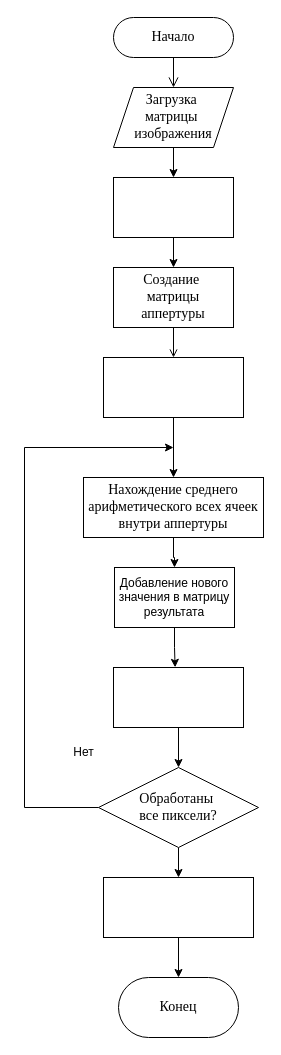
Image size: 281x1055. Some labels were removed from this diagram. The shapes that lost their labels are listed below. From the top down, each one's centre as x and y in pixels, then its label:
At point (173, 207): "Конвертация изображения в черно-белое".
At point (173, 387): "Перемещение аппертуры в начало изображения".
At point (178, 697): "Сдвиг апертуры на одну позицию".
At point (178, 907): "Запись результирующей матрицы в изображение".
